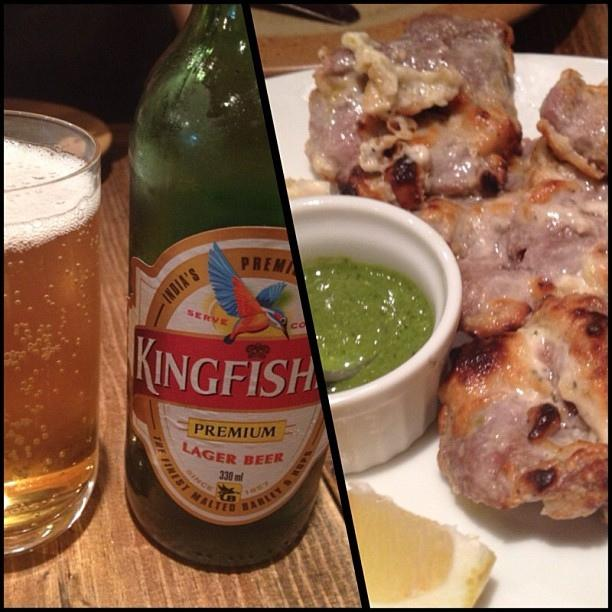lemon: (350, 480, 496, 612)
